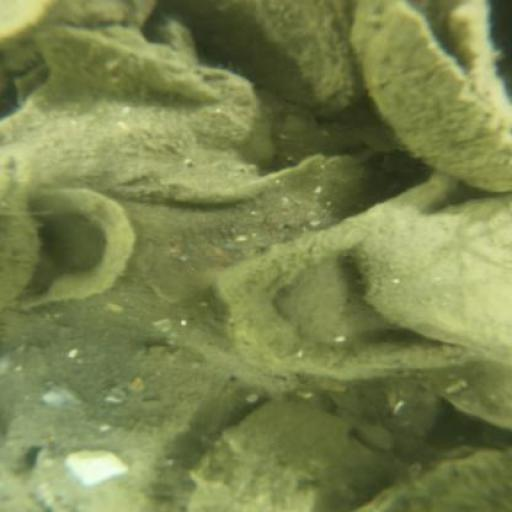Oyster-Closed: (125, 154, 369, 307), (9, 70, 264, 204), (358, 2, 512, 194), (191, 403, 403, 512), (167, 1, 360, 118), (36, 28, 234, 98), (37, 430, 174, 508), (362, 448, 512, 511), (408, 362, 511, 431)
Oyster-Open: (359, 195, 512, 364), (6, 190, 39, 308)
